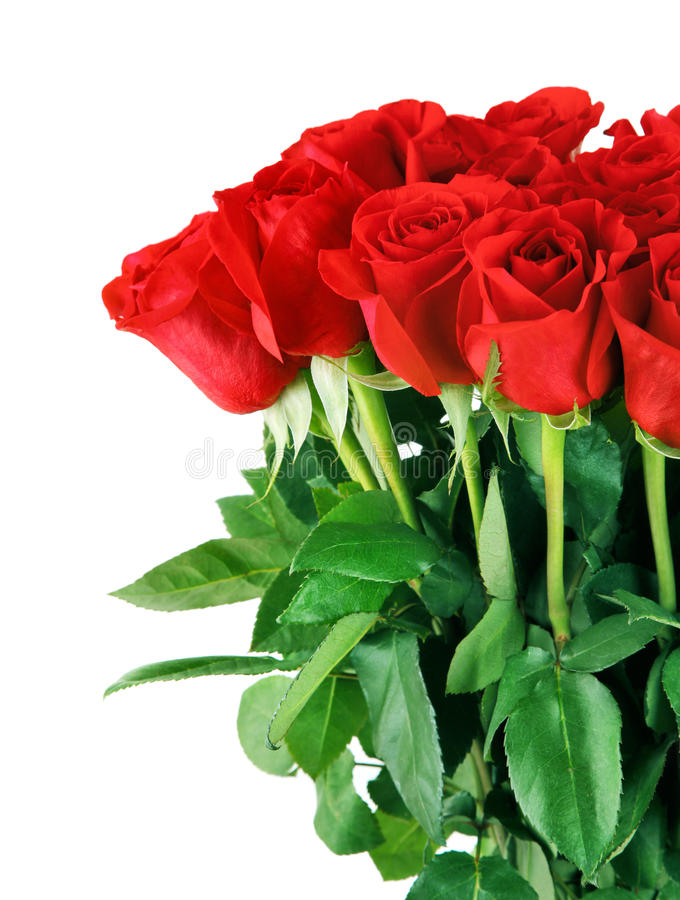RedRose: (325, 172, 524, 402), (68, 208, 280, 412), (450, 202, 639, 424), (185, 172, 364, 376), (585, 226, 680, 447), (557, 81, 680, 230), (364, 69, 484, 184), (468, 81, 599, 184), (272, 98, 400, 196)
